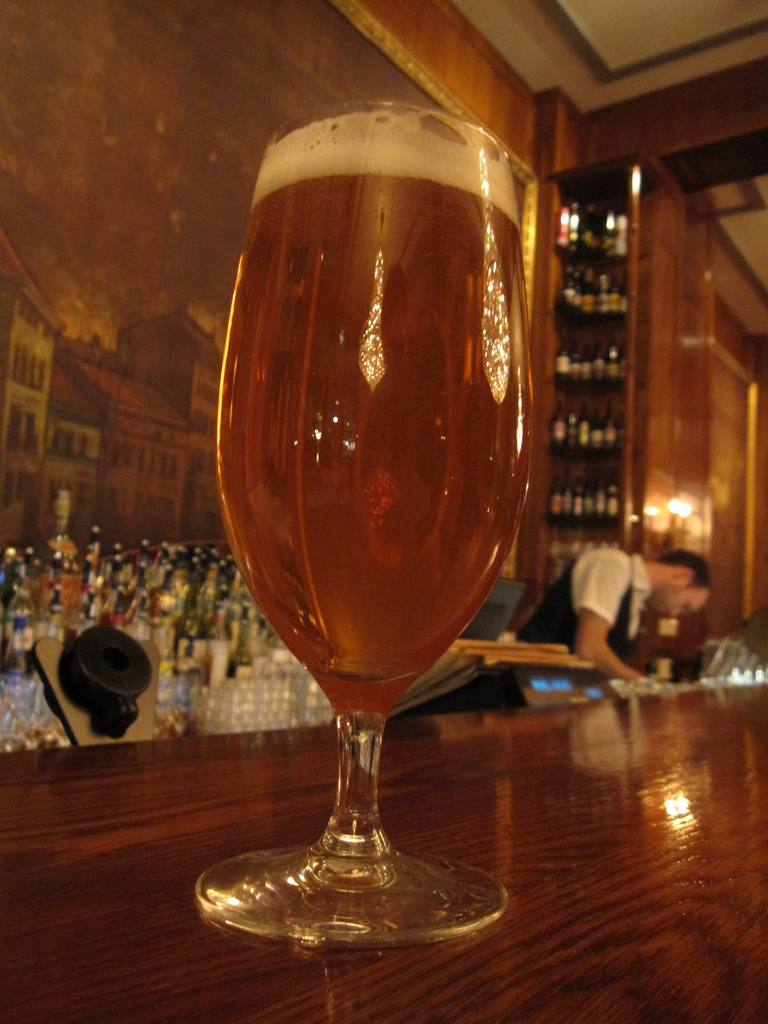Beer: (206, 108, 524, 839)
